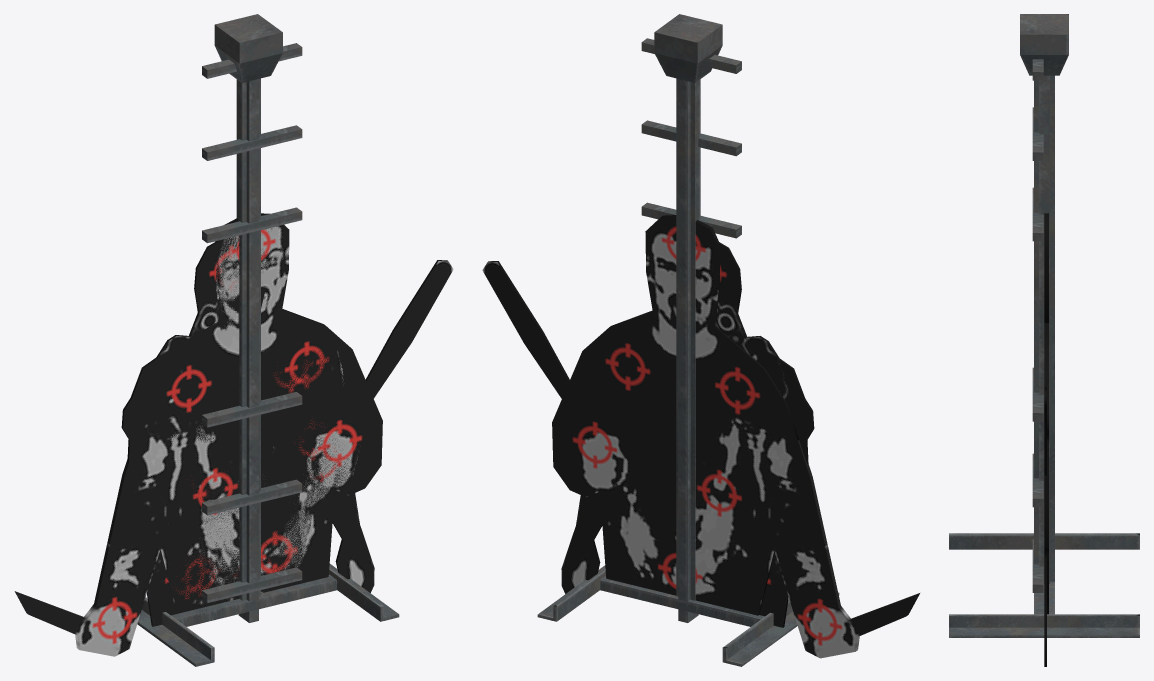
The model's file is Tir.fbx.
3 renders of one model, left to right at view 1: azimuth 30°, elevation 25°; view 2: azimuth 150°, elevation 25°; view 3: azimuth 270°, elevation 25°, orthographic. The views are drawn at different scales.
Visible parts, largest first — view 1: V_01, V_02, Rack_01, Rack_02, polySurface25; view 2: V_01, Rack_01, Rack_02, polySurface25, V_02; view 3: Rack_01, Rack_02, V_01, V_02, polySurface25.
Boxes of the visible parts, left/top/right/bottom form: V_01: left=14, top=213, right=382, bottom=656; V_02: left=127, top=215, right=453, bottom=626; Rack_01: left=137, top=43, right=399, bottom=666; Rack_02: left=202, top=14, right=302, bottom=622; polySurface25: left=121, top=236, right=374, bottom=614; V_01: left=552, top=215, right=919, bottom=658; Rack_01: left=537, top=38, right=839, bottom=666; Rack_02: left=654, top=14, right=722, bottom=622; polySurface25: left=561, top=242, right=814, bottom=615; V_02: left=482, top=261, right=808, bottom=627; Rack_01: left=949, top=59, right=1139, bottom=637; Rack_02: left=1020, top=14, right=1068, bottom=592; V_01: left=1044, top=213, right=1048, bottom=614; V_02: left=1044, top=250, right=1046, bottom=475; polySurface25: left=1044, top=557, right=1046, bottom=666.
Bounding box in the file's own units: 98.02 × 128 × 37.93.
Materials: 1 (1 with a texture image).
